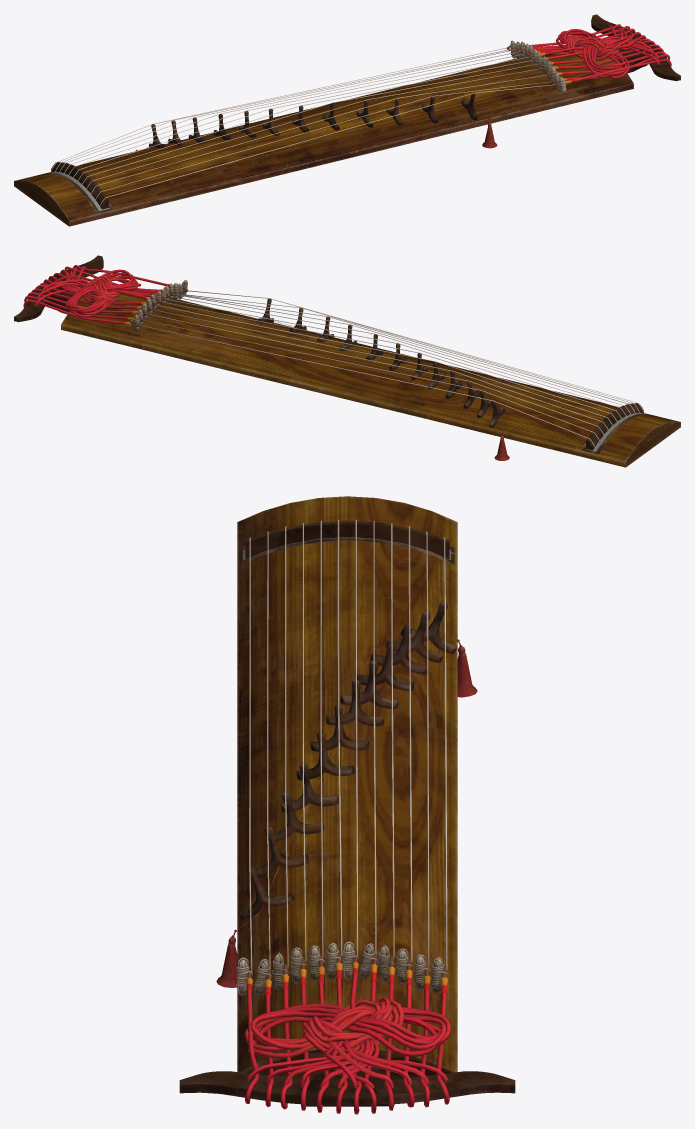
Rendered from gayageum.glb.
The picture shows the model from 3 angles, top to bottom: view 1: azimuth 30°, elevation 25°; view 2: azimuth 150°, elevation 25°; view 3: azimuth 270°, elevation 25°; orthographic projection. The views are drawn at different scales.
Visible parts, largest first — view 1: Gayageum_Gayageum_mat_0; view 2: Gayageum_Gayageum_mat_0; view 3: Gayageum_Gayageum_mat_0.
Boxes of the visible parts, box(x1,y1,x2,y2) form: Gayageum_Gayageum_mat_0: box(14, 14, 680, 226); Gayageum_Gayageum_mat_0: box(14, 255, 680, 467); Gayageum_Gayageum_mat_0: box(179, 496, 515, 1114).
Size of the model in its own units: 1.62 by 0.1511 by 0.385.
1 material, 1 textured.
